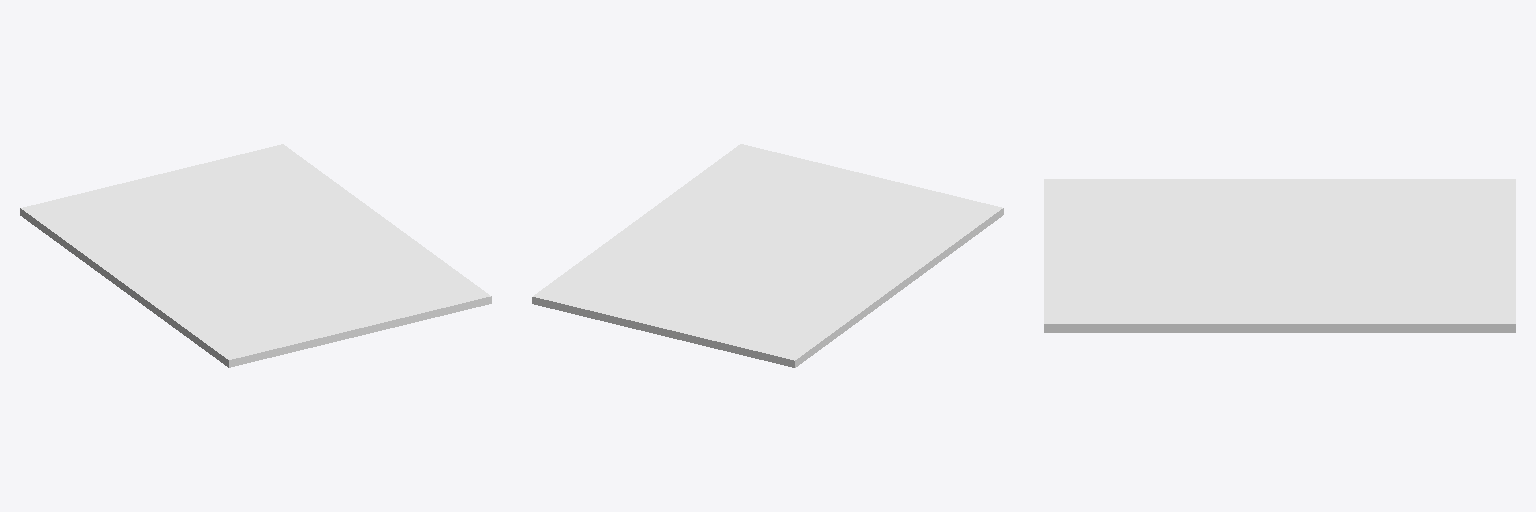
The robot description file, URDF, robot "milk":
<?xml version="1.0" encoding="utf-8"?>
<robot name="milk">
  <link name="base_link">
    <contact>
      <lateral_friction value="0.5"/>
      <rolling_friction value="0.0"/>
      <contact_cfm value="0.0"/>
      <contact_erp value="0.0"/>
    </contact>
    <inertial>
      <origin rpy="0 0 0" xyz="0 0 0"/>
      <mass value="0.7"/>
      <inertia ixx="0.0" ixy="0.0" ixz="0.0" iyy="0.0" iyz="0.0" izz="0.0"/>
    </inertial>
    <visual>
      <origin rpy="1.57 0 0" xyz="0 0 0"/>
      <geometry>
        <mesh filename="models/meshes/paper/paper.obj" scale="100 100 100"/>
      </geometry>
      <material name="tray_material">
        <color rgba="1 1 1 1"/>
      </material>
    </visual>
    <collision>
      <origin rpy="1.57 0 0" xyz="0 0 0"/>
      <geometry>
        <mesh filename="models/meshes/paper/paper.obj" scale="100 100 100"/>
      </geometry>
    </collision>
  </link>
</robot>

--- Facts derived from the render (not from the file) ---
The picture shows the robot from 3 angles, left to right: view 1: azimuth 30°, elevation 25°; view 2: azimuth 150°, elevation 25°; view 3: azimuth 270°, elevation 25°; orthographic projection.
Robot: milk — 1 links, 0 joints (none); root link base_link; default pose: all joints at 0.
Links seen in each view (by area): view 1: base_link; view 2: base_link; view 3: base_link.
Boxes of the visible links, <box> form: base_link: <box>20,144,491,367</box>; base_link: <box>532,144,1003,367</box>; base_link: <box>1044,179,1515,332</box>.
Size in the robot's own frame: 0.364 by 0.5 by 0.0104 metres.
Meshes: 1 distinct files referenced, 1 mesh visuals loaded (1 OBJ).
